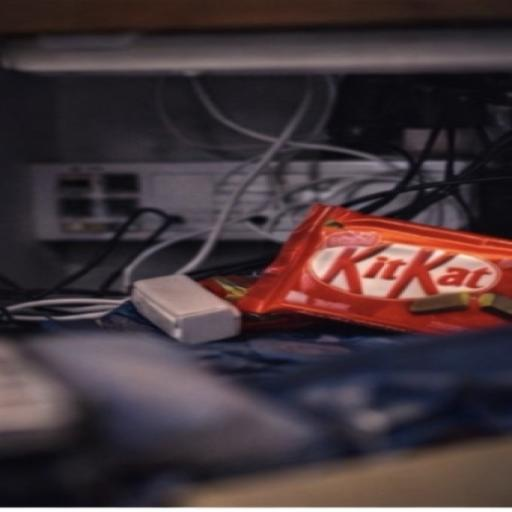kitkat: (208, 166, 512, 384)
